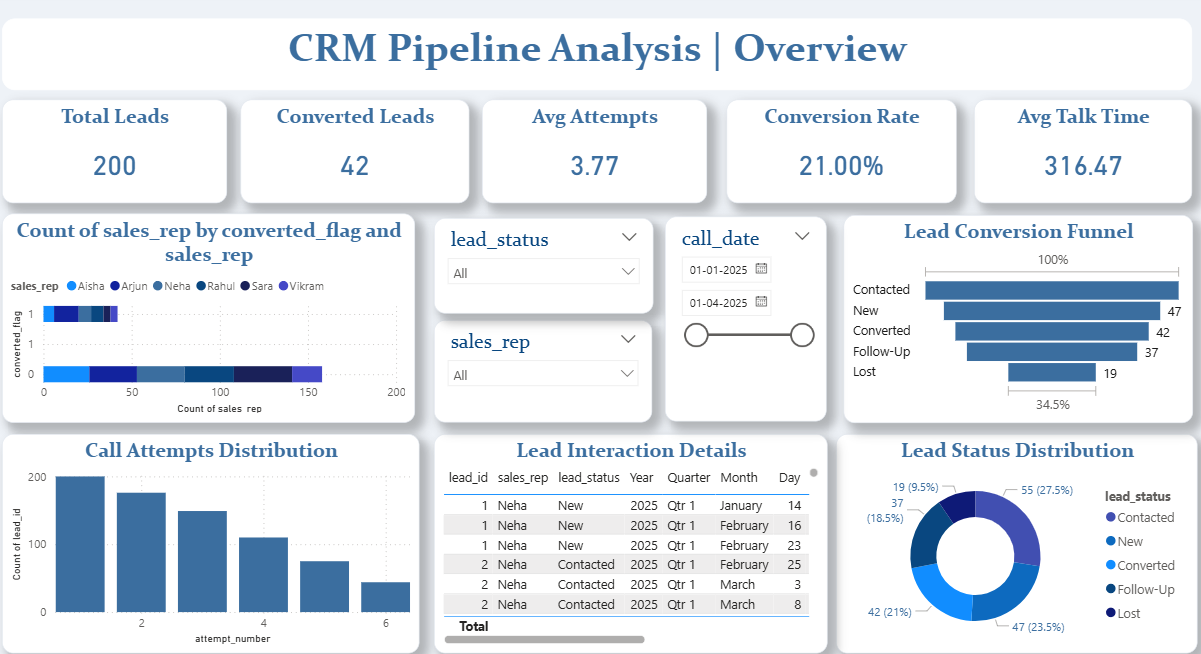

This screenshot's page, from the dashboard's own definition file:
{"tool":"powerbi","page":{"name":"Page 1","canvas":[1280,720],"ordinal":0},"visuals":[{"type":"card","title":"Total Leads","fields":{"Values":["CountNonNull(sales_leads_dataset.lead_id)"]},"box":[3.6,112.2,238.9,109.8],"z":0},{"type":"card","title":"Converted Leads","fields":{"Values":["sales_leads_dataset.Converted Leads"]},"box":[255.8,112.2,242.5,109.8],"z":1000},{"type":"card","title":"Avg Talk Time","fields":{"Values":["sales_call_logs_dataset.Avg Talk Time"]},"box":[1033.9,113.4,231.6,109.8],"z":2000},{"type":"card","title":"Conversion Rate","fields":{"Values":["sales_call_logs_dataset.Conversion Rate"]},"box":[772.1,112.2,243.7,109.8],"z":3000},{"type":"card","title":"Avg Attempts","fields":{"Values":["sales_call_logs_dataset.Avg Attempts"]},"box":[512.7,112.2,238.9,109.8],"z":4000},{"type":"barChart","fields":{"Category":["sales_leads_dataset.converted_flag"],"Series":["sales_leads_dataset.sales_rep"],"Y":["CountNonNull(sales_leads_dataset.sales_rep)"]},"box":[3.6,234,437.9,222],"z":5000},{"type":"donutChart","title":"Lead Status Distribution","fields":{"Category":["sales_leads_dataset.lead_status"],"Y":["CountNonNull(sales_leads_dataset.lead_id)"]},"box":[887.9,466.9,383.6,232.8],"z":6000},{"type":"funnel","title":"Lead Conversion Funnel","fields":{"Category":["sales_leads_dataset.lead_status"],"Y":["CountNonNull(sales_leads_dataset.lead_id)"]},"box":[895.2,235.3,370.4,220.8],"z":7000},{"type":"columnChart","title":"Call Attempts Distribution","fields":{"Category":["sales_call_logs_dataset.attempt_number"],"Y":["CountNonNull(sales_call_logs_dataset.lead_id)"]},"box":[3.6,466.9,442.8,232.8],"z":8000},{"type":"tableEx","title":"Lead Interaction Details","fields":{"Values":["sales_leads_dataset.lead_id","sales_leads_dataset.sales_rep","sales_leads_dataset.lead_status","sales_call_logs_dataset.call_date.Variation.Date Hierarchy.Year","sales_call_logs_dataset.call_date.Variation.Date Hierarchy.Quarter","sales_call_logs_dataset.call_date.Variation.Date Hierarchy.Month","sales_call_logs_dataset.call_date.Variation.Date Hierarchy.Day","Sum(sales_call_logs_dataset.attempt_number)","Sum(sales_call_logs_dataset.talk_time_seconds)"]},"box":[460.9,466.9,417.4,232.8],"z":9000},{"type":"actionButton","title":"CRM Pipeline Analysis | Overview","box":[3.6,26.5,1261.9,76],"z":10000},{"type":"slicer","fields":{"Values":["sales_leads_dataset.sales_rep"]},"box":[462.1,347.5,231.6,108.6],"z":11000},{"type":"slicer","fields":{"Values":["sales_leads_dataset.lead_status"]},"box":[460.9,238.9,232.8,101.3],"z":12000},{"type":"slicer","fields":{"Values":["sales_call_logs_dataset.call_date"]},"box":[707,237.7,171.3,217.2],"z":13000}]}

Visuals, with their boxes on the page's 1280x720 design canvas (x1, y1, x2, y2). These are canvas units, not pixel positions in the 1201x654 screenshot, which may show the page scaled, cropped or inside an application window:
"Total Leads" card: {"x1": 4, "y1": 112, "x2": 242, "y2": 222}
"Converted Leads" card: {"x1": 256, "y1": 112, "x2": 498, "y2": 222}
"Avg Talk Time" card: {"x1": 1034, "y1": 113, "x2": 1266, "y2": 223}
"Conversion Rate" card: {"x1": 772, "y1": 112, "x2": 1016, "y2": 222}
"Avg Attempts" card: {"x1": 513, "y1": 112, "x2": 752, "y2": 222}
barChart - sales_leads_dataset.converted_flag x sales_leads_dataset.sales_rep: {"x1": 4, "y1": 234, "x2": 442, "y2": 456}
"Lead Status Distribution" donutChart: {"x1": 888, "y1": 467, "x2": 1272, "y2": 700}
"Lead Conversion Funnel" funnel: {"x1": 895, "y1": 235, "x2": 1266, "y2": 456}
"Call Attempts Distribution" columnChart: {"x1": 4, "y1": 467, "x2": 446, "y2": 700}
"Lead Interaction Details" tableEx: {"x1": 461, "y1": 467, "x2": 878, "y2": 700}
"CRM Pipeline Analysis | Overview" actionButton: {"x1": 4, "y1": 26, "x2": 1266, "y2": 102}
slicer - sales_leads_dataset.sales_rep: {"x1": 462, "y1": 348, "x2": 694, "y2": 456}
slicer - sales_leads_dataset.lead_status: {"x1": 461, "y1": 239, "x2": 694, "y2": 340}
slicer - sales_call_logs_dataset.call_date: {"x1": 707, "y1": 238, "x2": 878, "y2": 455}
